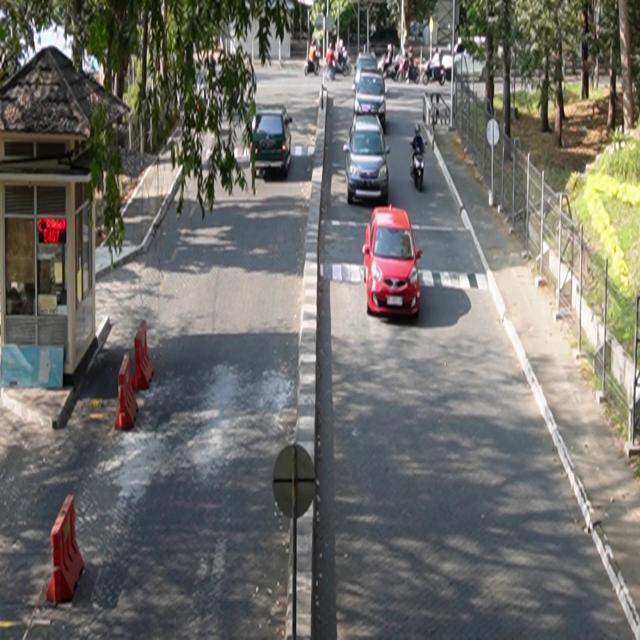car: (363, 205, 423, 319), (344, 115, 391, 205), (251, 107, 294, 180), (354, 71, 388, 134)
